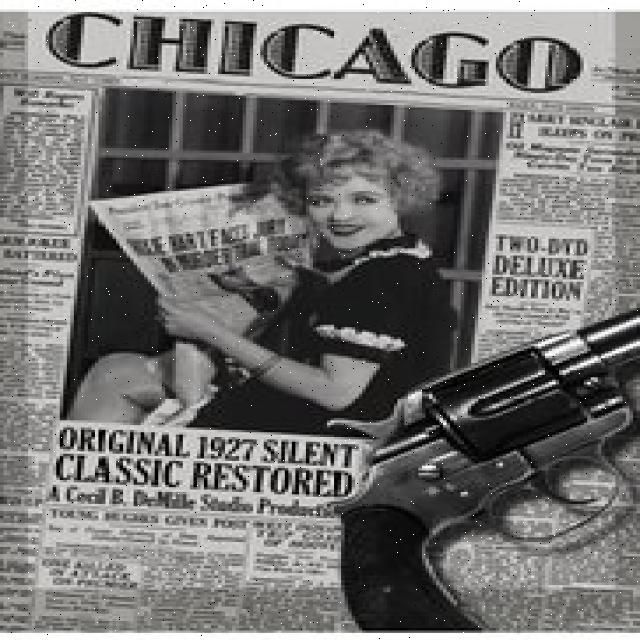movie-judul: (31, 13, 590, 103)
picture: (96, 105, 426, 430), (341, 344, 640, 621)
